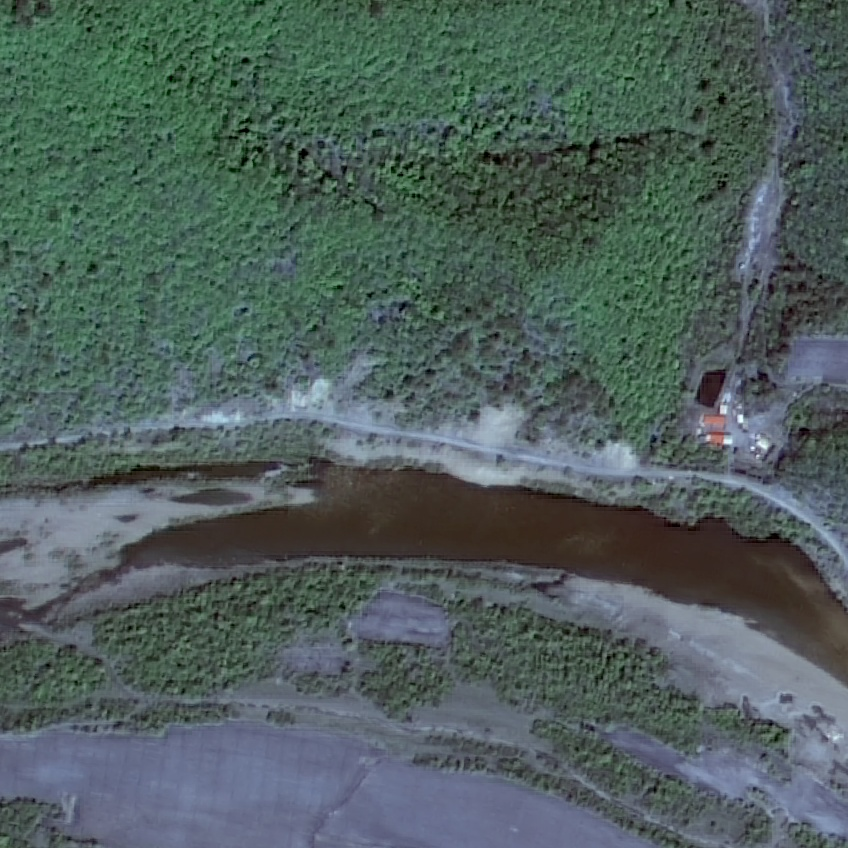slope: (440, 401, 637, 470), (206, 376, 406, 428)
